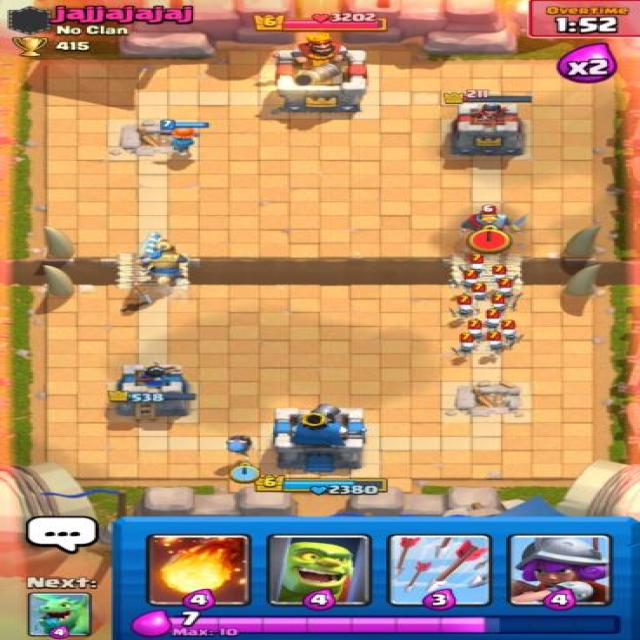Enemy-Knight: (457, 203, 529, 243)
Enemy-Skeleton: (448, 332, 482, 358), (449, 293, 478, 321), (490, 278, 520, 303), (496, 319, 524, 345), (461, 253, 489, 278), (482, 331, 511, 355), (487, 263, 513, 287), (464, 281, 490, 305), (486, 294, 512, 317), (463, 318, 487, 342), (482, 309, 506, 333), (458, 267, 483, 290)
Player-Bomber: (224, 433, 256, 461)
Player-Prince: (136, 228, 193, 290)
Player-Valkyrie: (160, 118, 209, 157)
